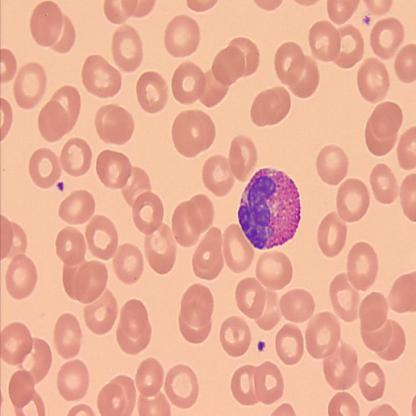Eosinophil: (237, 166, 301, 249)
